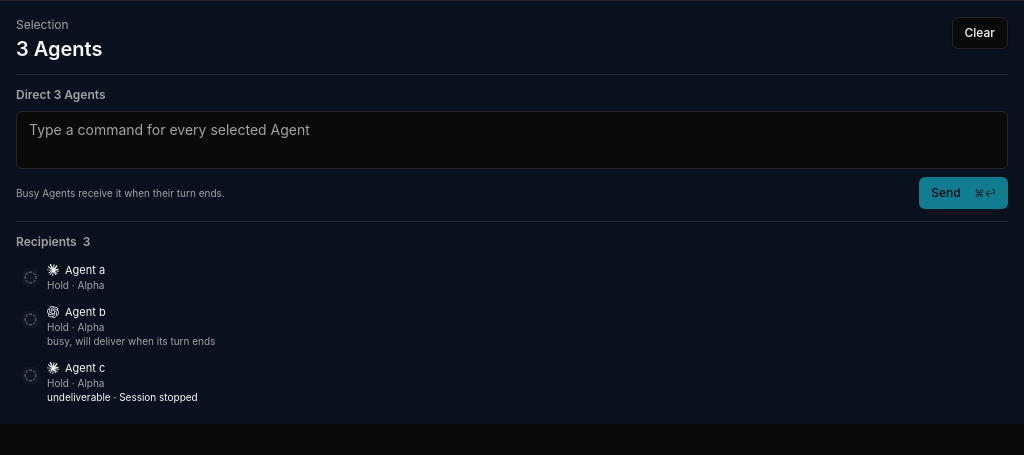
Test case: Direct N Agents › sends once per reachable recipient and shows each result
In the text box: (512, 140) x1=16 y1=111 x2=1008 y2=169, type "run the tests"
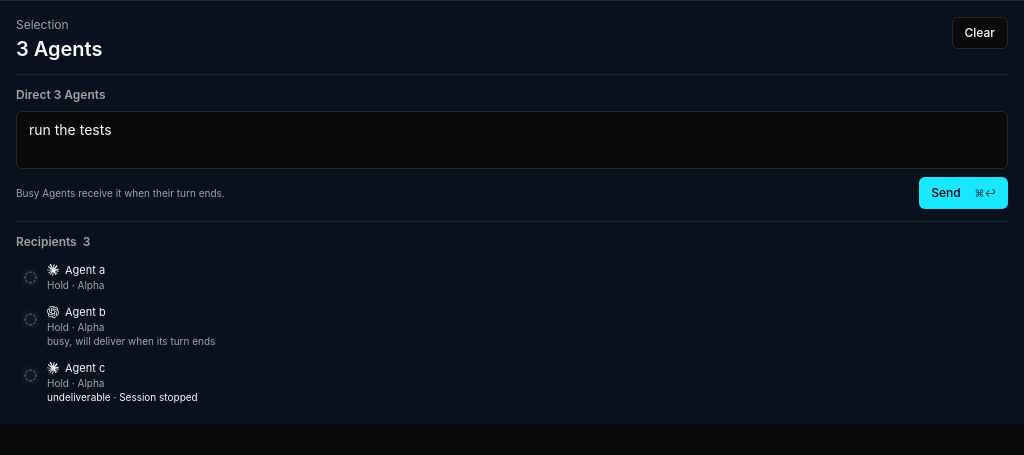
Press Enter in the text box, box x1=16 y1=111 x2=1008 y2=169
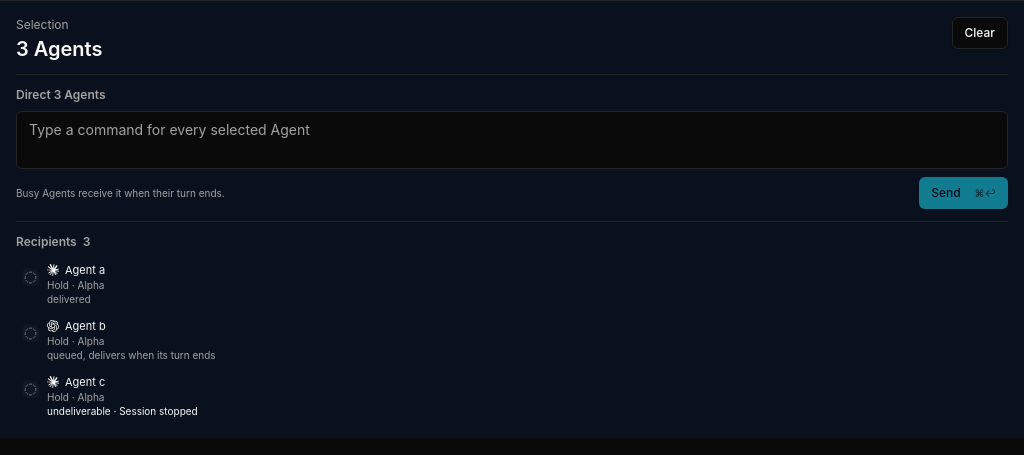
Expected: the text "delivered" is shown, x1=47 y1=293 x2=91 y2=305
Expected: the text box is empty, x1=16 y1=111 x2=1008 y2=169
